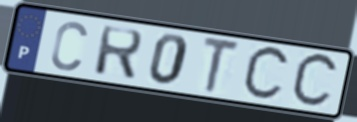0: (145, 33, 190, 88)
C: (288, 51, 342, 111), (239, 44, 293, 104), (49, 18, 90, 73)
R: (92, 24, 146, 83)
T: (200, 35, 242, 96)
